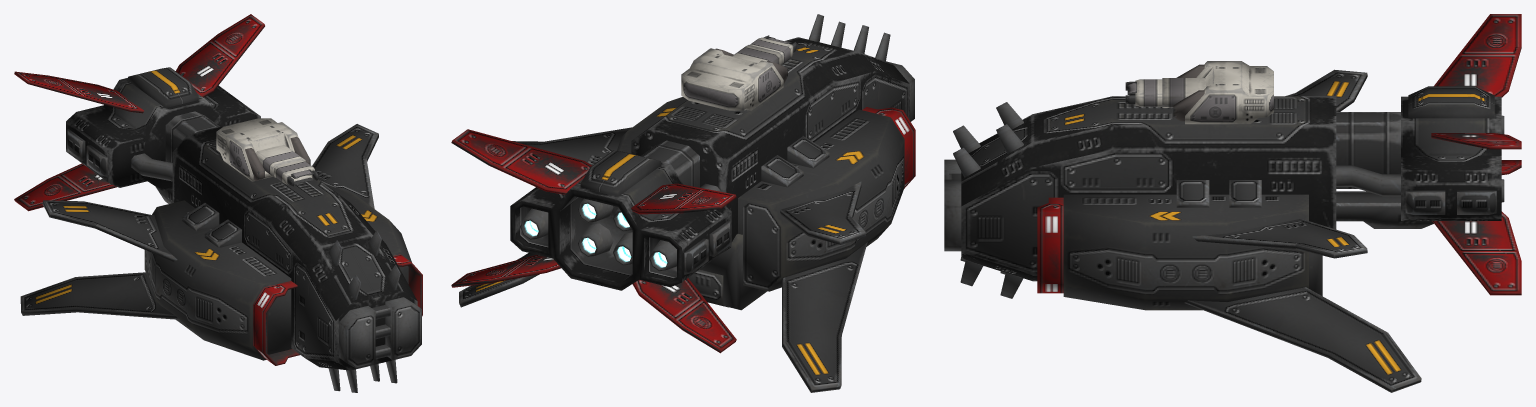
File: reaver-corsair.glb
3 renders of one model, left to right at view 1: azimuth 30°, elevation 25°; view 2: azimuth 150°, elevation 25°; view 3: azimuth 270°, elevation 25°, orthographic. The views are drawn at different scales.
Visible parts, largest first — view 1: hull; view 2: hull; view 3: hull.
Part boxes in pixels (x1,y1,x2,y2): hull: (14,14,422,392); hull: (451,14,915,392); hull: (944,14,1521,392).
Bounding box in the file's own units: 0.7738 × 0.4267 × 1.
1 material, 1 textured.
